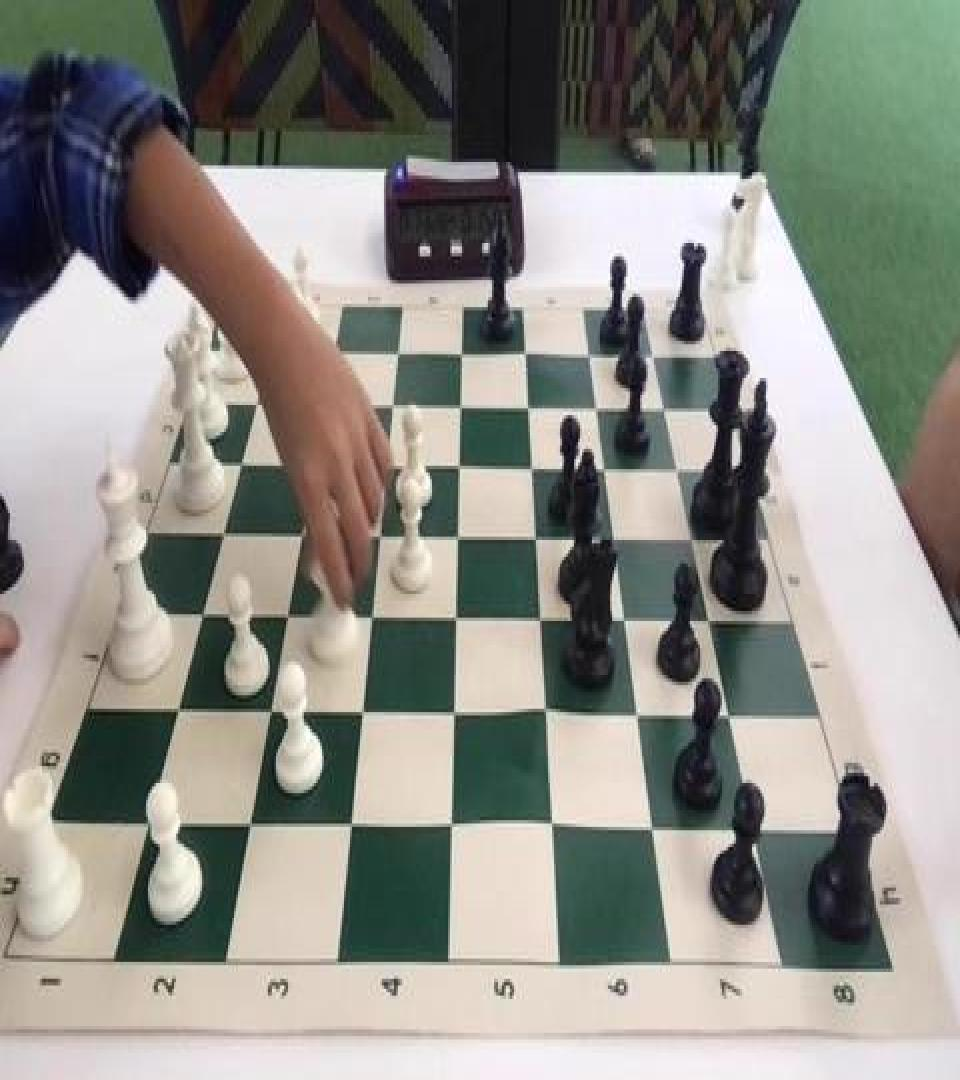xcorner: (451, 334, 475, 375), (387, 332, 411, 373), (323, 332, 347, 373), (518, 388, 542, 429), (450, 388, 474, 429), (381, 386, 405, 427), (667, 452, 691, 493), (375, 447, 399, 488), (302, 447, 326, 488), (681, 521, 705, 562), (603, 521, 627, 562), (446, 518, 470, 559), (368, 518, 392, 559), (290, 516, 314, 557), (698, 604, 722, 645), (613, 602, 637, 643), (444, 599, 468, 640), (360, 599, 384, 640), (275, 597, 299, 638), (534, 695, 558, 736), (442, 695, 466, 736), (166, 690, 190, 731), (540, 808, 564, 849), (439, 808, 463, 849), (138, 803, 162, 844), (643, 338, 667, 378), (579, 336, 603, 376), (515, 336, 539, 376), (259, 331, 283, 371), (654, 392, 678, 432), (586, 390, 610, 430), (313, 385, 337, 425), (245, 385, 269, 425), (594, 451, 618, 491), (521, 449, 545, 489), (448, 449, 472, 489), (229, 446, 253, 486), (525, 520, 549, 560), (211, 515, 235, 555), (529, 601, 553, 641), (191, 596, 215, 636), (717, 699, 741, 739), (625, 697, 649, 737), (350, 694, 374, 734), (258, 692, 282, 732), (740, 812, 764, 852), (640, 810, 664, 850), (339, 807, 363, 847), (238, 805, 262, 845)
